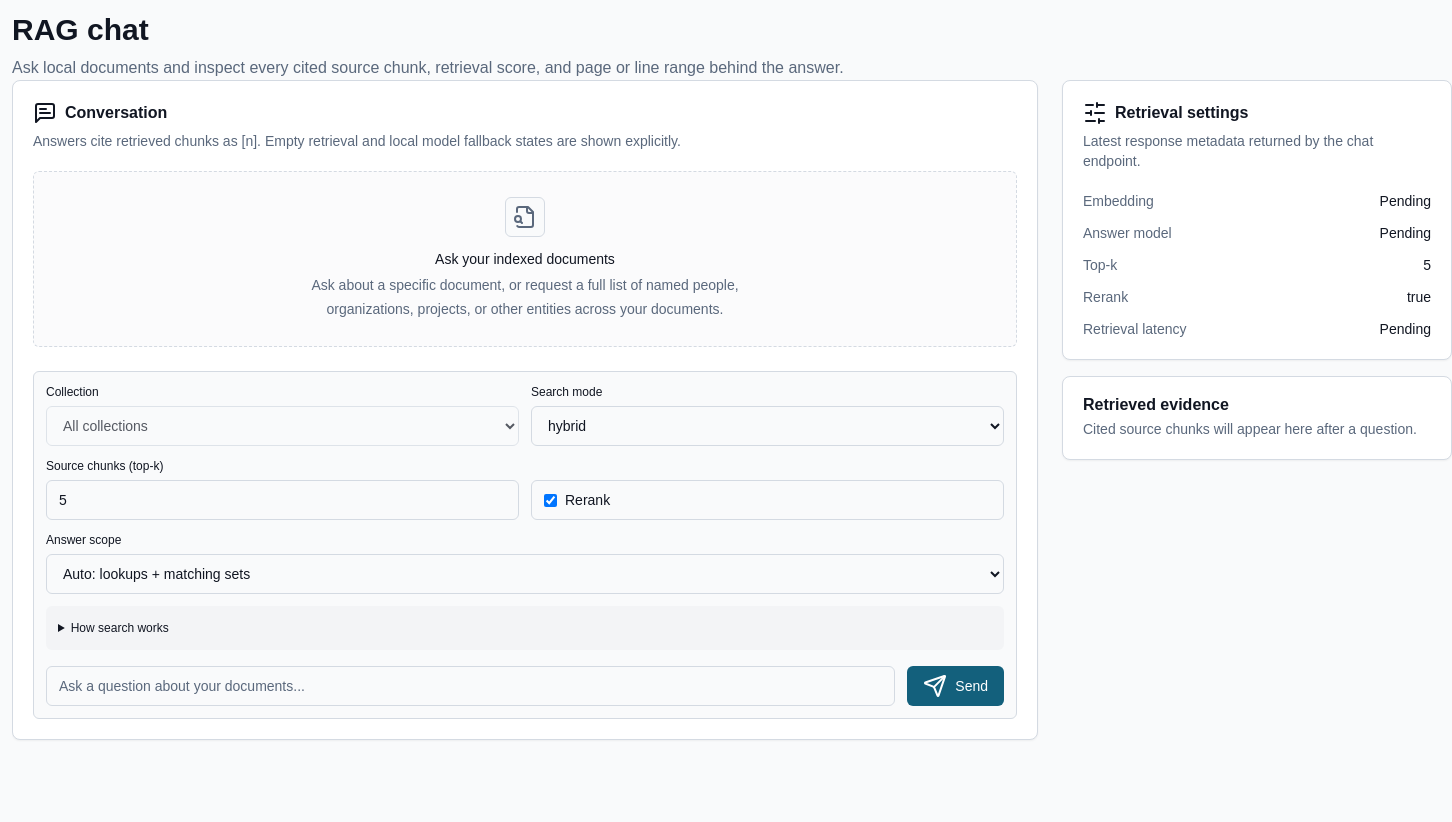
Test case: chat performance controls › marks reused answers clearly
Type "Explain deployment." into the field with placeholder "Ask a question about your documents..." at (471, 686), box [46,666,895,706]
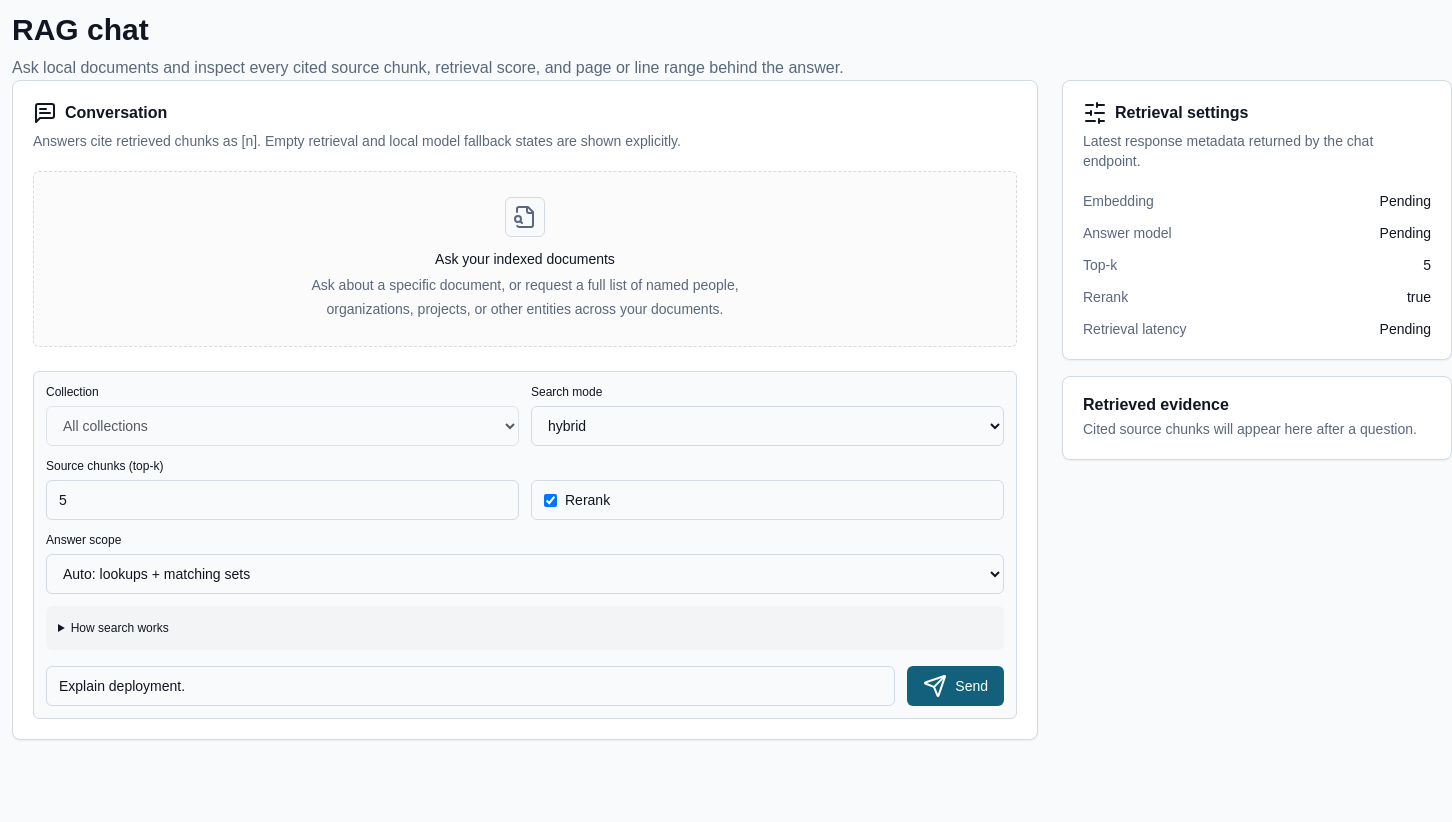
Click the button "Send" at (956, 686), box [907,666,1004,706]
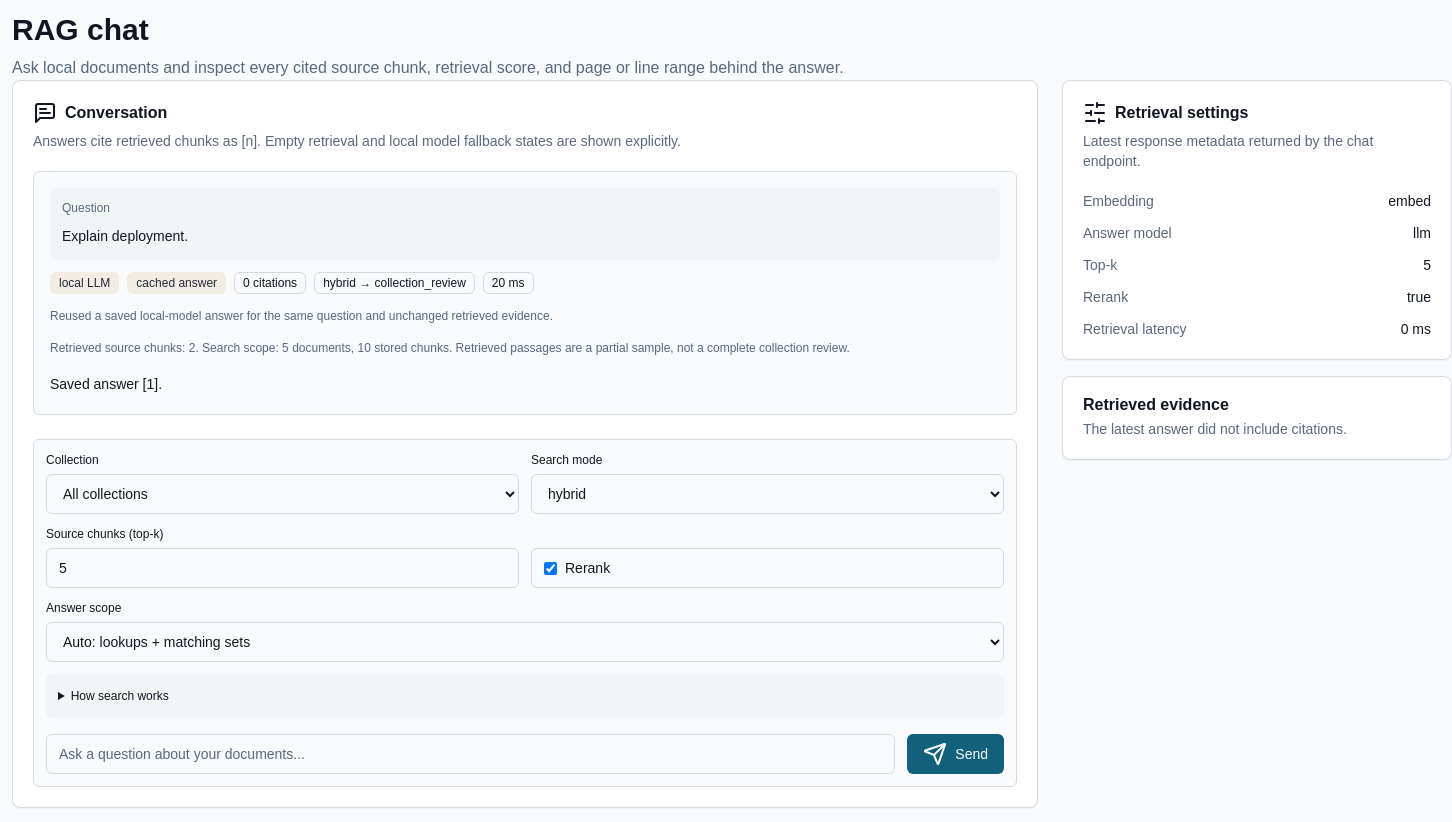
expect the text "cached answer" is shown: met, box [127,272,226,294]
expect the text "Reused a saved local-model answer" is shown: met, box [50,309,553,323]
